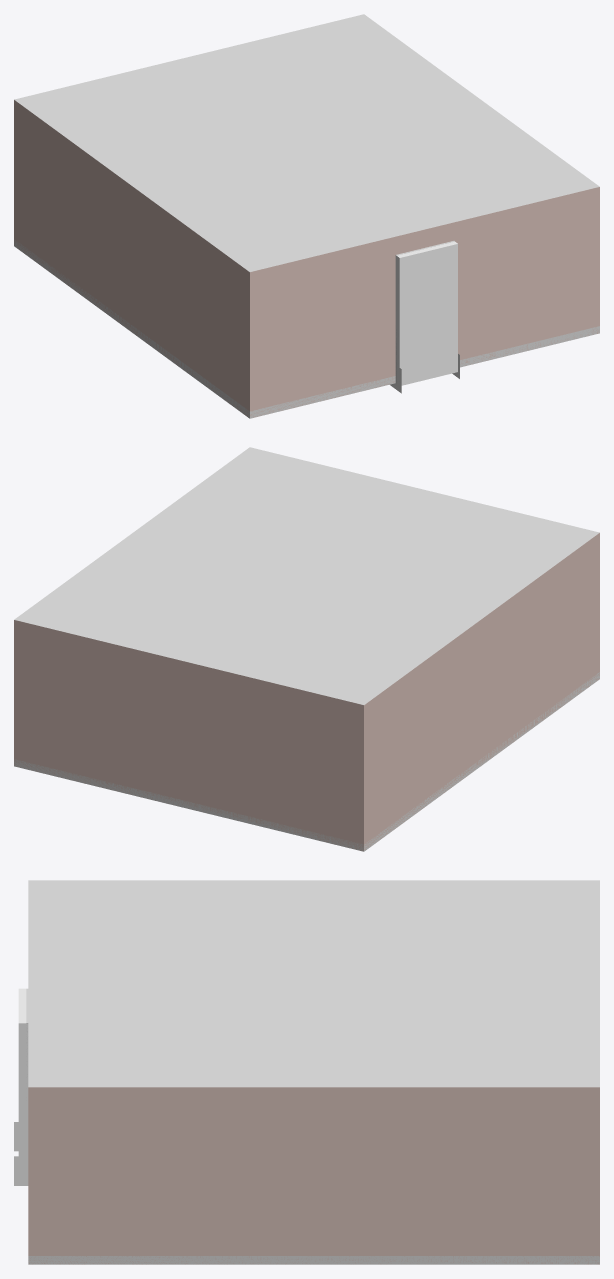
Rendered from Sala.fbx.
The picture shows the model from 3 angles, top to bottom: view 1: azimuth 30°, elevation 25°; view 2: azimuth 150°, elevation 25°; view 3: azimuth 270°, elevation 25°; orthographic projection. The views are drawn at different scales.
Visible parts, largest first — view 1: Ceiling, Room, CTRL_Hole, Baseboard; view 2: Room, Ceiling, Baseboard; view 3: Ceiling, Room, Baseboard, CTRL_Hole, CTRL_Baseboard.
Boxes of the visible parts, bbox=[...] form: Ceiling: bbox=[14, 14, 599, 271]; Room: bbox=[14, 100, 599, 417]; CTRL_Hole: bbox=[395, 241, 457, 385]; Baseboard: bbox=[14, 239, 599, 418]; Room: bbox=[14, 533, 599, 850]; Ceiling: bbox=[14, 447, 599, 704]; Baseboard: bbox=[14, 672, 599, 851]; Ceiling: bbox=[28, 880, 599, 1087]; Room: bbox=[28, 1087, 599, 1264]; Baseboard: bbox=[28, 1256, 599, 1264]; CTRL_Hole: bbox=[18, 988, 28, 1165]; CTRL_Baseboard: bbox=[14, 1122, 28, 1185].
Bounding box in the file's own units: 600 × 250 × 718.
